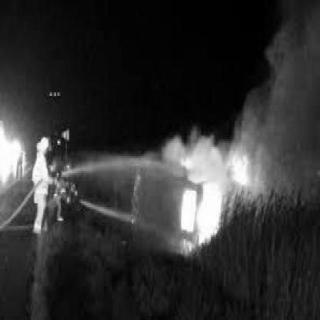Smoke: (240, 30, 316, 201)
